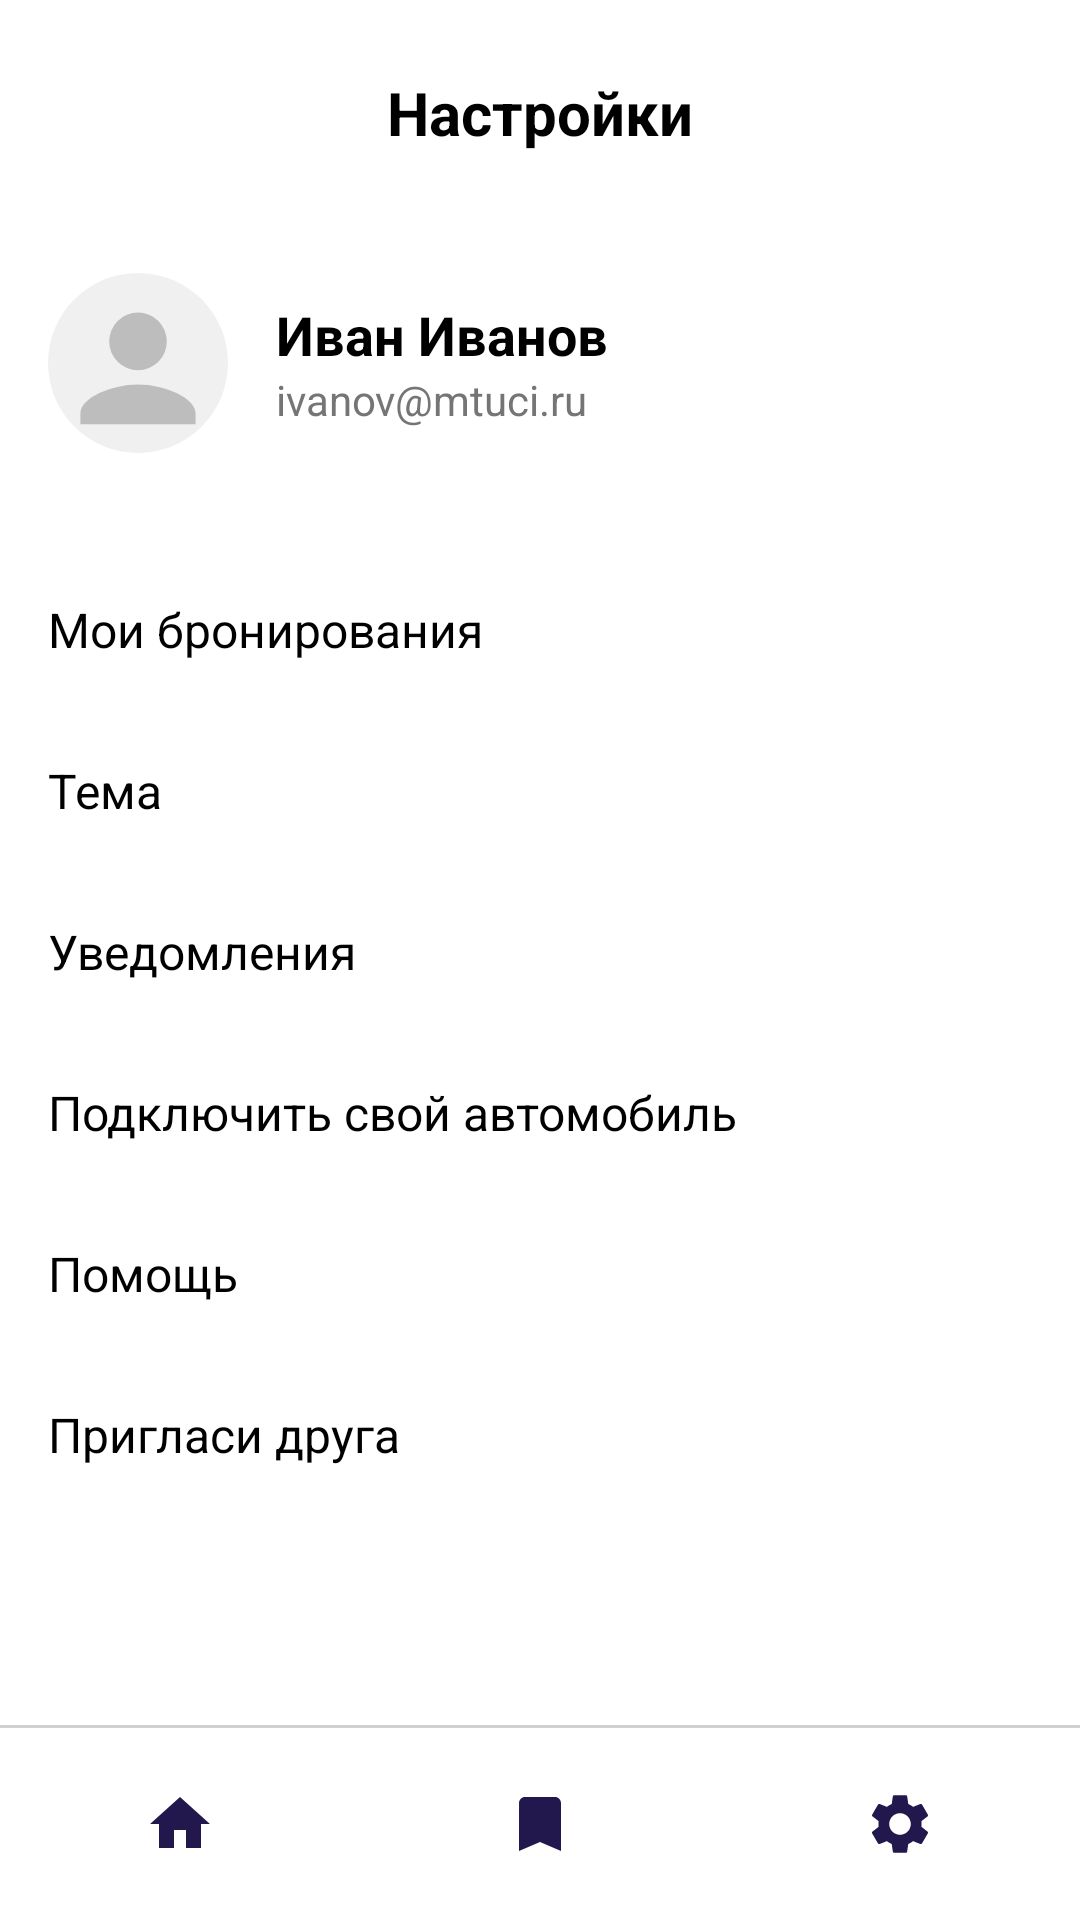

Icons on this 1080x1920 Android screen, each with the point to tap as point (x, y):
Главная: point (180, 1822)
Избранное: point (540, 1824)
Настройки: point (900, 1824)
